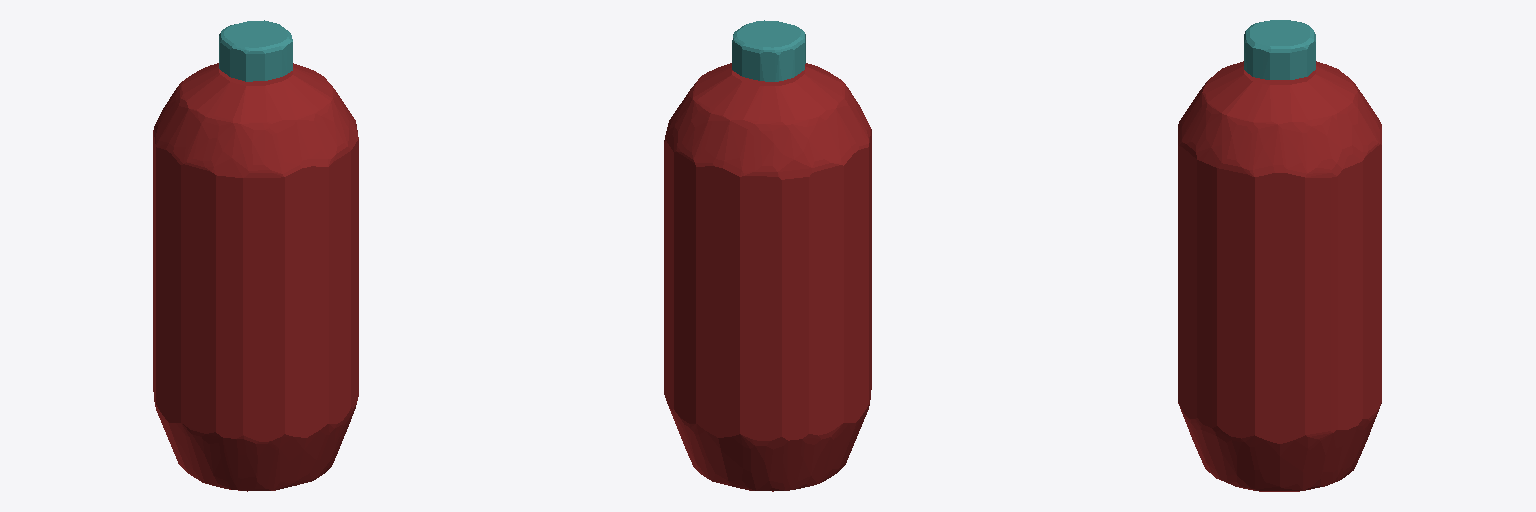
The robot description file, URDF, robot "root":
<robot name="root">
  <link name="bottle_body">
    <inertial>
      <origin xyz="0 0 0" rpy="0 0 0"/>
    </inertial>
    <mass value="1.00E-02"/>
    <visual>
      <origin xyz="0 0 0" rpy="0 0 0"/>
      <geometry>
        <mesh filename="core-bottle-6e57c665a47d7d7730612f5c0ef21eb8-coacd_convex_piece_1.obj" scale="1.0000E-01 1.0000E-01 1.0000E-01"/>
      </geometry>
      <material name="">
        <color rgba="6.00E-01 2.00E-01 2.00E-01 1"/>
      </material>
    </visual>
    <collision>
      <origin xyz="0 0 0" rpy="0 0 0"/>
      <geometry>
        <mesh filename="core-bottle-6e57c665a47d7d7730612f5c0ef21eb8-coacd_convex_piece_1.obj" scale="1.0000E-01 1.0000E-01 1.0000E-01"/>
      </geometry>
    </collision>
  </link>
  <link name="bottle_cap">
    <origin xyz="0 0 0.002" rpy="0 0 0"/>
    <mass value="1.00E-02"/>
    <visual>
      <origin xyz="0 0 0.002" rpy="0 0 0"/>
      <geometry>
        <mesh filename="core-bottle-6e57c665a47d7d7730612f5c0ef21eb8-coacd_convex_piece_0.obj" scale="1.0000E-01 1.0000E-01 1.0000E-01"/>
      </geometry>
      <material name="">
        <color rgba="3.00E-01 6.00E-01 6.00E-01 1"/>
      </material>
    </visual>
    <collision>
      <origin xyz="0 0 0.002" rpy="0 0 0"/>
      <geometry>
        <mesh filename="core-bottle-6e57c665a47d7d7730612f5c0ef21eb8-coacd_convex_piece_0.obj" scale="1.0000E-01 1.0000E-01 1.0000E-01"/>
      </geometry>
    </collision>
  </link>
  <joint name="bottle_cap_joint" type="revolute">
    <origin xyz="0 0 0" rpy="0 0 0"/>
    <parent link="bottle_body"/>
    <child link="bottle_cap"/>
    <axis xyz="0 0 1"/>
    <limit lower="0.00" upper="6.28"/>
    <dynamics damping="0.05"/>
  </joint>
</robot>

--- Facts derived from the render (not from the file) ---
Views: 3 orthographic renders of the robot side by side, from view 1: azimuth 30°, elevation 25°; view 2: azimuth 150°, elevation 25°; view 3: azimuth 270°, elevation 25°.
Model root with 2 links and 1 joints (1 revolute), rooted at bottle_body, posed every joint at zero.
Visible links, largest first — view 1: bottle_body, bottle_cap; view 2: bottle_body, bottle_cap; view 3: bottle_body, bottle_cap.
Link boxes in pixels (box(x1,y1,x2,y2)): bottle_body: box(153, 63, 358, 491); bottle_cap: box(219, 20, 292, 81); bottle_body: box(664, 63, 871, 491); bottle_cap: box(732, 20, 805, 81); bottle_body: box(1178, 61, 1381, 491); bottle_cap: box(1244, 20, 1315, 79).
Bounding box of the posed robot: 0.0813 × 0.0813 × 0.1889 m (x, y, z).
2 mesh visuals loaded from 2 distinct referenced files (2 OBJ).